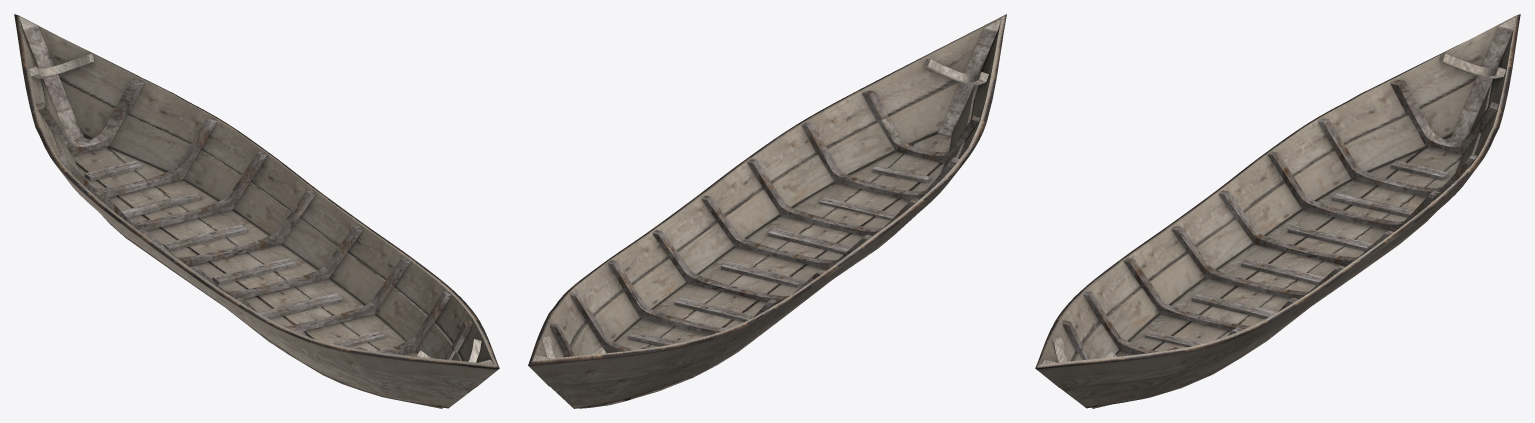
3 views of the same model, side by side, from view 1: azimuth 30°, elevation 25°; view 2: azimuth 150°, elevation 25°; view 3: azimuth 330°, elevation 25° (orthographic).
Visible parts, largest first — view 1: boot_1; view 2: boot_1; view 3: boot_1.
Part boxes in pixels (<box>): boot_1: <box>14,14,499,408</box>; boot_1: <box>528,14,1006,408</box>; boot_1: <box>1035,14,1520,408</box>.
Bounding box in the file's own units: 132 × 65.5 × 606.
Materials: 1 (1 with a texture image).
